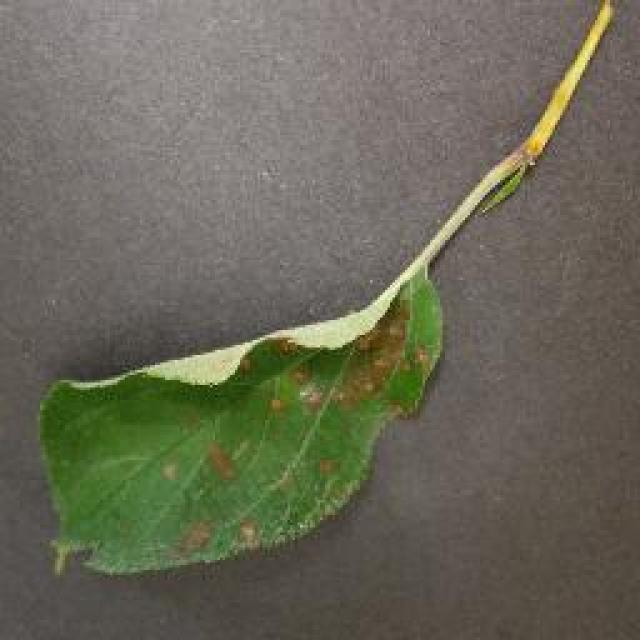apple scab disease: (32, 0, 628, 578)
